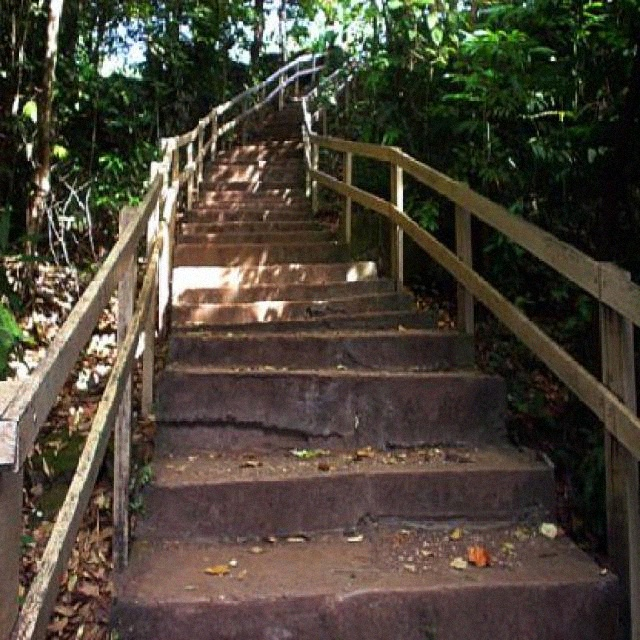stair: (100, 77, 640, 638)
